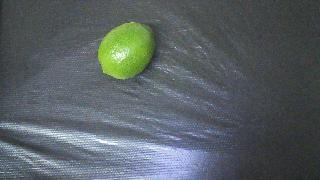LOCAL: (98, 22, 155, 79)
